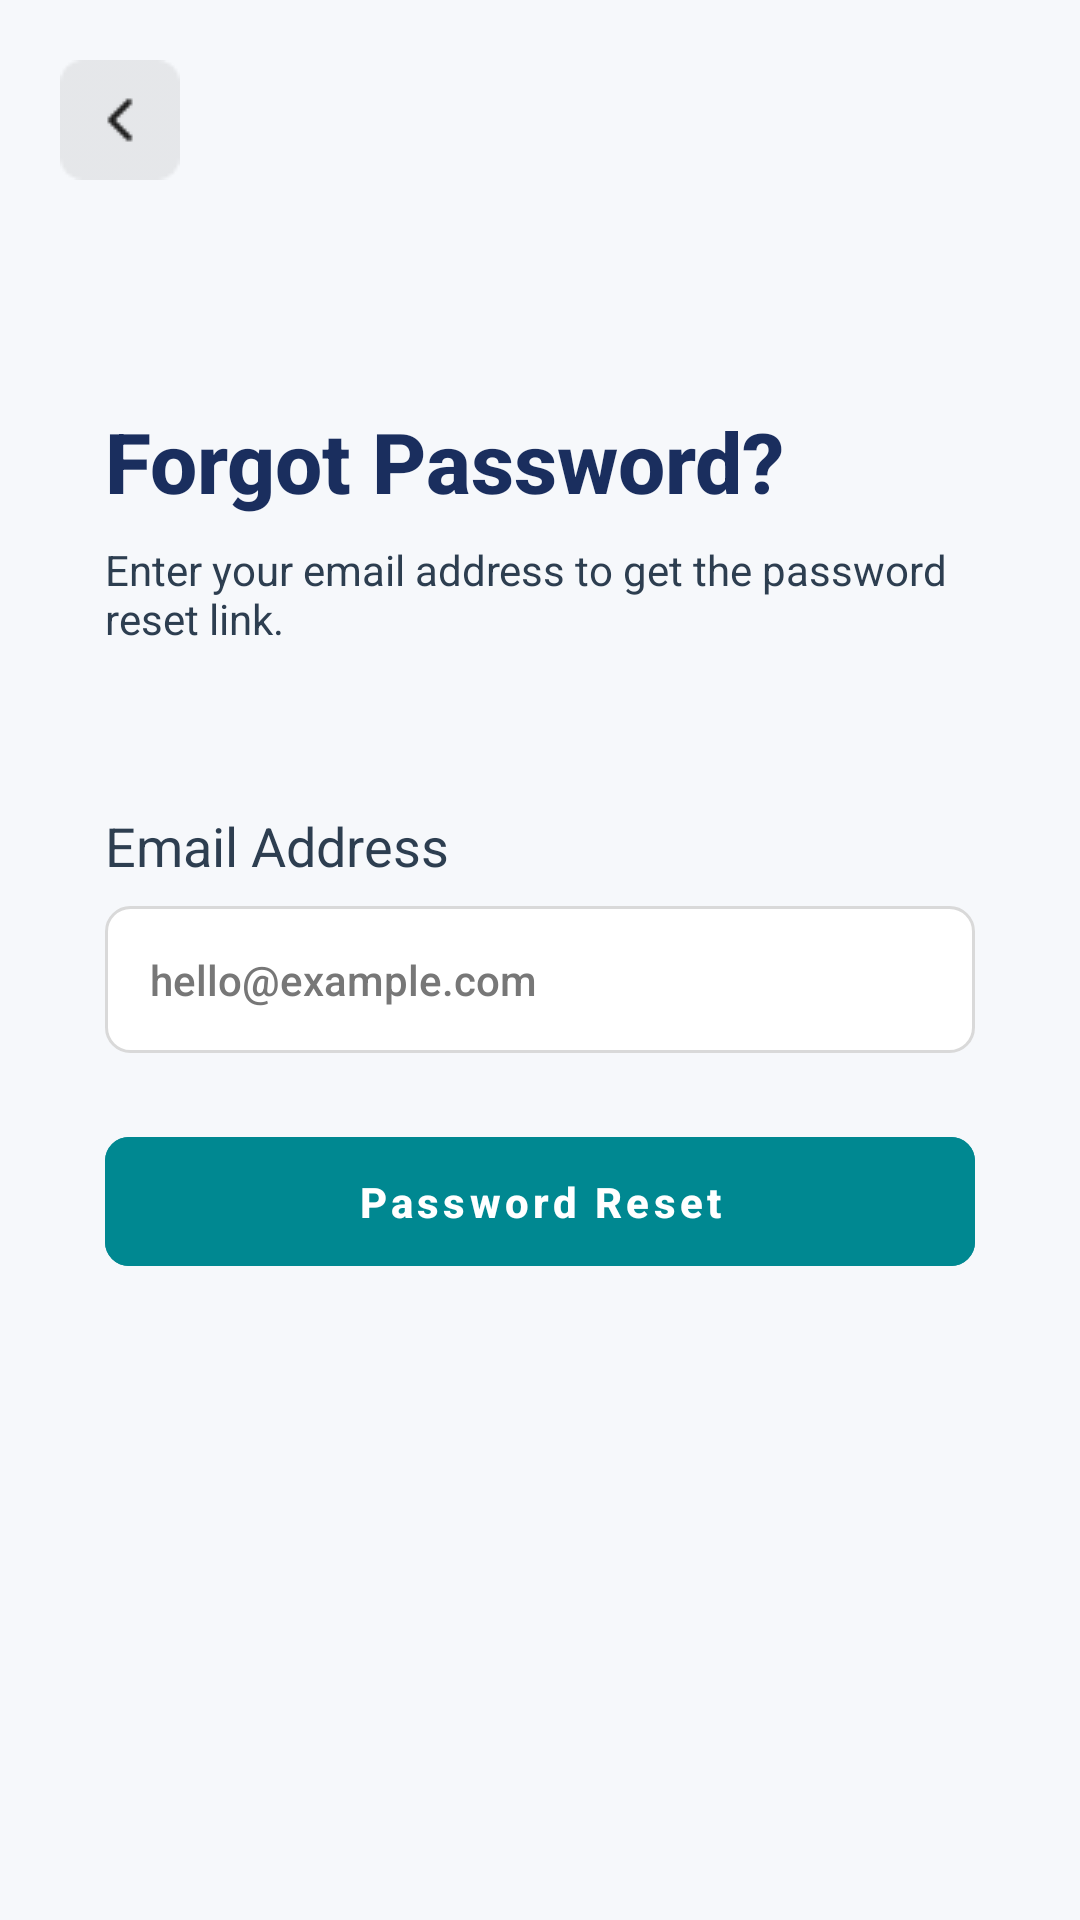

Named icons in this screenshot (1080x1920) and their centers, [x,y]:
Back: [120,120]
